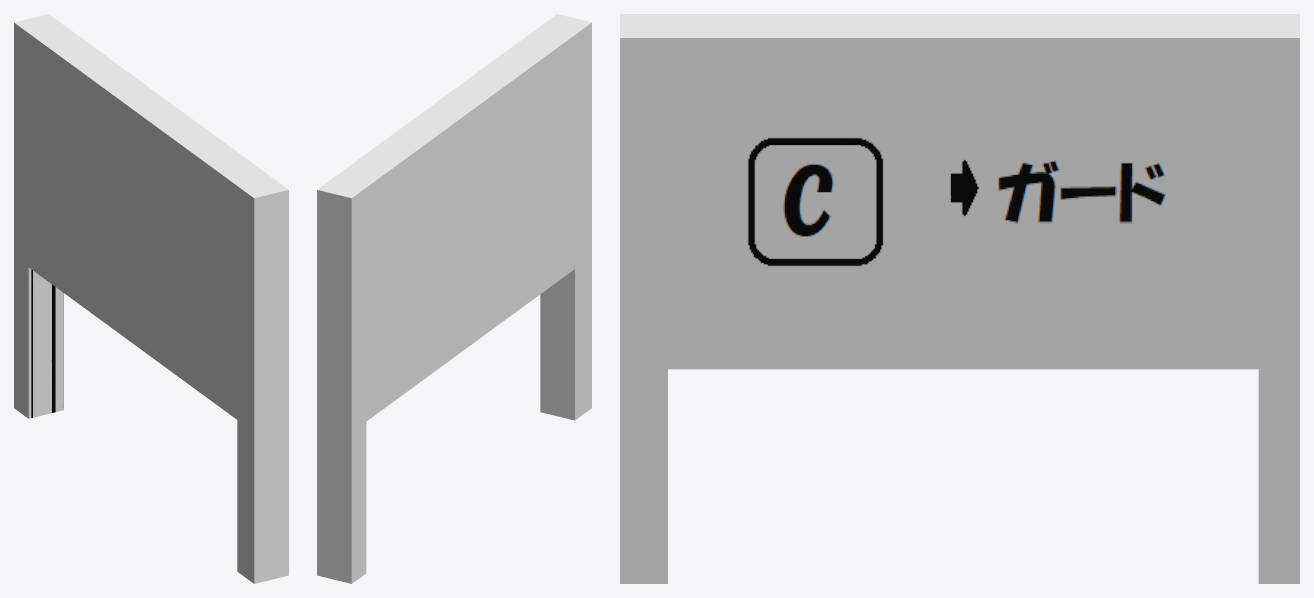
The model's file is Barrier.gltf.
The picture shows the model from 3 angles, left to right: view 1: azimuth 30°, elevation 25°; view 2: azimuth 150°, elevation 25°; view 3: azimuth 270°, elevation 25°; orthographic projection. The views are drawn at different scales.
Parts seen in each view (by area): view 1: Cube; view 2: Cube; view 3: Cube.
Part boxes in pixels (x1,y1,x2,y2): Cube: [14, 14, 288, 583]; Cube: [317, 14, 591, 583]; Cube: [620, 14, 1299, 583].
Bounding box in the file's own units: 0.3113 × 3.3 × 3.72.
1 material, 1 textured.
